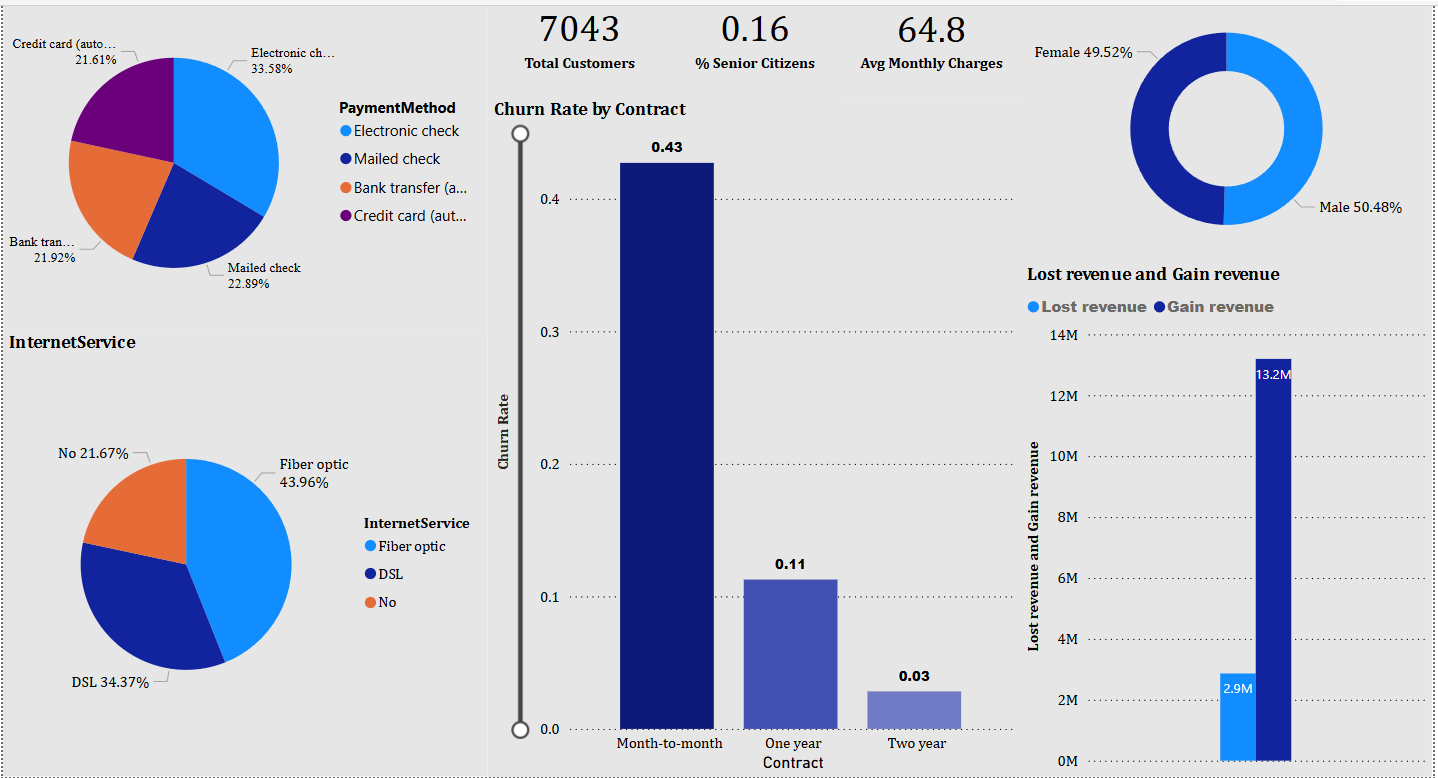

This screenshot's page, from the dashboard's own definition file:
{"tool":"powerbi","page":{"name":"Page 1","canvas":[1280,720],"ordinal":0},"visuals":[{"type":"card","fields":{"Values":["01 Churn-Dataset.Total_Customers"]},"box":[434,0,164,112],"z":0},{"type":"donutChart","title":"Male to female proportion","fields":{"Category":["01 Churn-Dataset.gender"],"Y":["01 Churn-Dataset.% Male Customers","01 Churn-Dataset.% Female Customers"]},"box":[912,0,368,260],"z":1000},{"type":"clusteredColumnChart","fields":{"Y":["01 Churn-Dataset.Lost revenue","01 Churn-Dataset.Gain revenue"]},"box":[912,260,368,460],"z":2000},{"type":"pieChart","title":"PaymentMethod","fields":{"Category":["01 Churn-Dataset.PaymentMethod"],"Y":["01 Churn-Dataset.Total_Customers"]},"box":[0,0,434,321],"z":3000},{"type":"clusteredColumnChart","fields":{"Category":["01 Churn-Dataset.Contract"],"Y":["01 Churn-Dataset.Churn Rate"]},"box":[434,112,478,608],"z":4000},{"type":"card","fields":{"Values":["01 Churn-Dataset.Avg Monthly Charges"]},"box":[750,2,162,110],"z":5000},{"type":"card","fields":{"Values":["01 Churn-Dataset.Percentage of Senior Citizens"]},"box":[596,0,154,112],"z":6000},{"type":"pieChart","title":"InternetService","fields":{"Category":["01 Churn-Dataset.InternetService"],"Y":["01 Churn-Dataset.Total_Customers"]},"box":[0,321,434,399],"z":7000}]}

Visuals, with their boxes on the page's 1280x720 design canvas (x1, y1, x2, y2). These are canvas units, not pixel positions in the 1438x778 screenshot, which may show the page scaled, cropped or inside an application window:
card - 01 Churn-Dataset.Total_Customers: pyautogui.locateOnScreen(434, 0, 598, 112)
"Male to female proportion" donutChart: pyautogui.locateOnScreen(912, 0, 1280, 260)
clusteredColumnChart - 01 Churn-Dataset.Lost revenue x 01 Churn-Dataset.Gain revenue: pyautogui.locateOnScreen(912, 260, 1280, 720)
"PaymentMethod" pieChart: pyautogui.locateOnScreen(0, 0, 434, 321)
clusteredColumnChart - 01 Churn-Dataset.Contract x 01 Churn-Dataset.Churn Rate: pyautogui.locateOnScreen(434, 112, 912, 720)
card - 01 Churn-Dataset.Avg Monthly Charges: pyautogui.locateOnScreen(750, 2, 912, 112)
card - 01 Churn-Dataset.Percentage of Senior Citizens: pyautogui.locateOnScreen(596, 0, 750, 112)
"InternetService" pieChart: pyautogui.locateOnScreen(0, 321, 434, 720)
